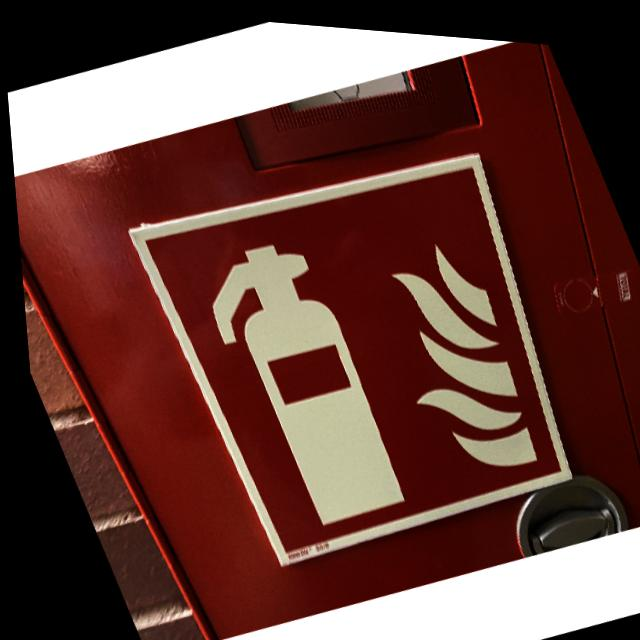fire extinguisher: (116, 106, 612, 588)
